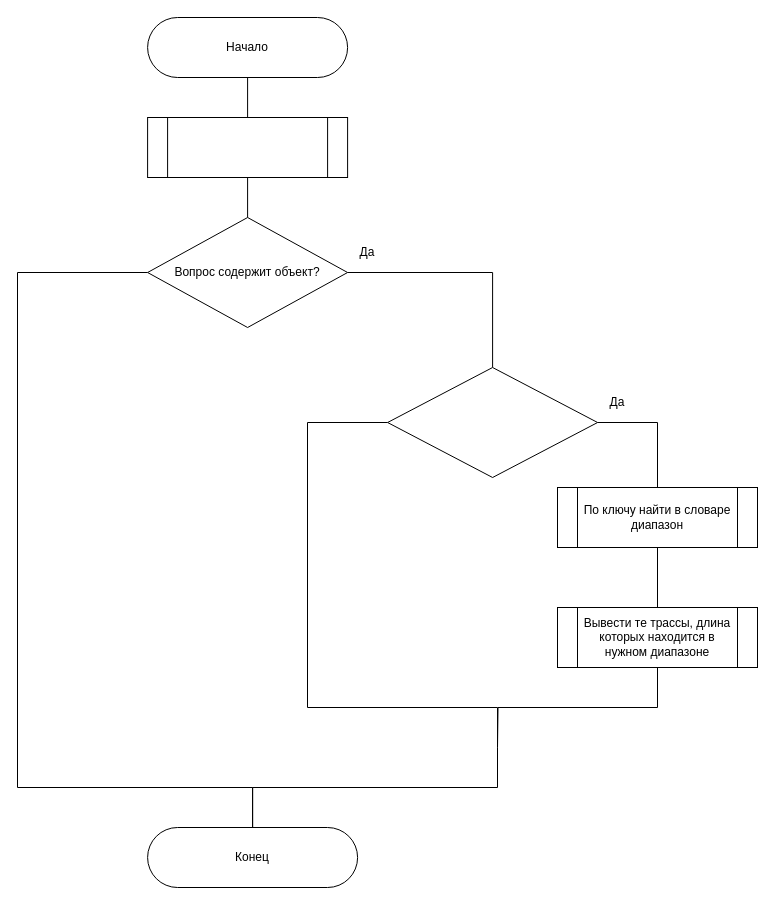
Image size: 775x905. Some labels were removed from this diagram. Here are the shapes that lost their labels. From the top down, the box of each, then its label:
(147, 116, 348, 178): Считать вопрос
(387, 366, 598, 478): Вопрос содержит терм?
